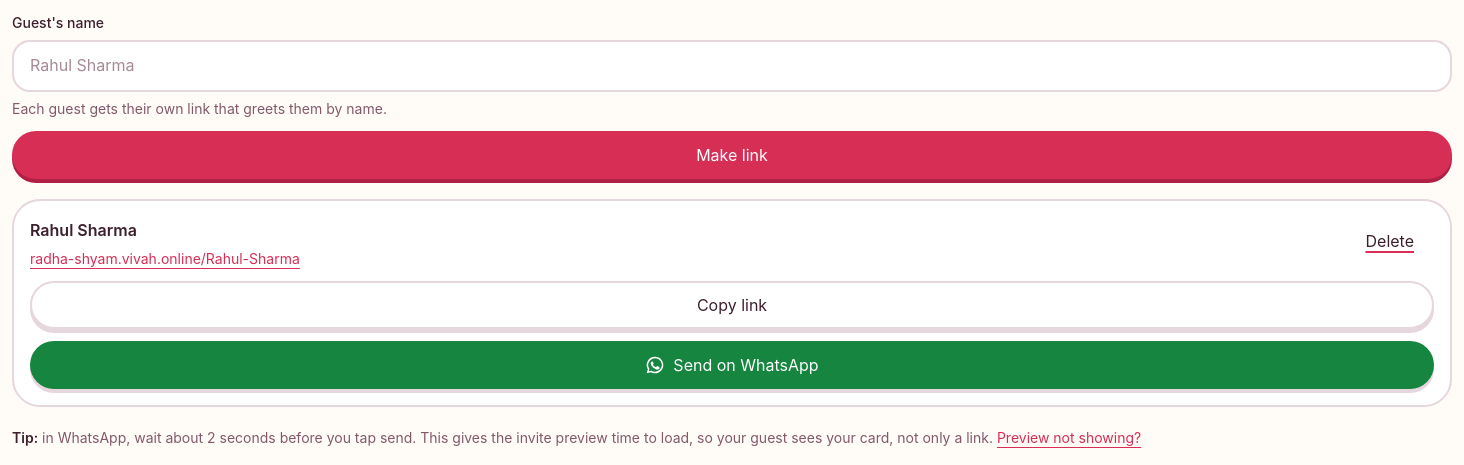
Scenario: GuestLinks › copies the link
Click the button with aria-label "Copy Rahul Sharma's link" at (732, 306), box [30,282,1434,330]
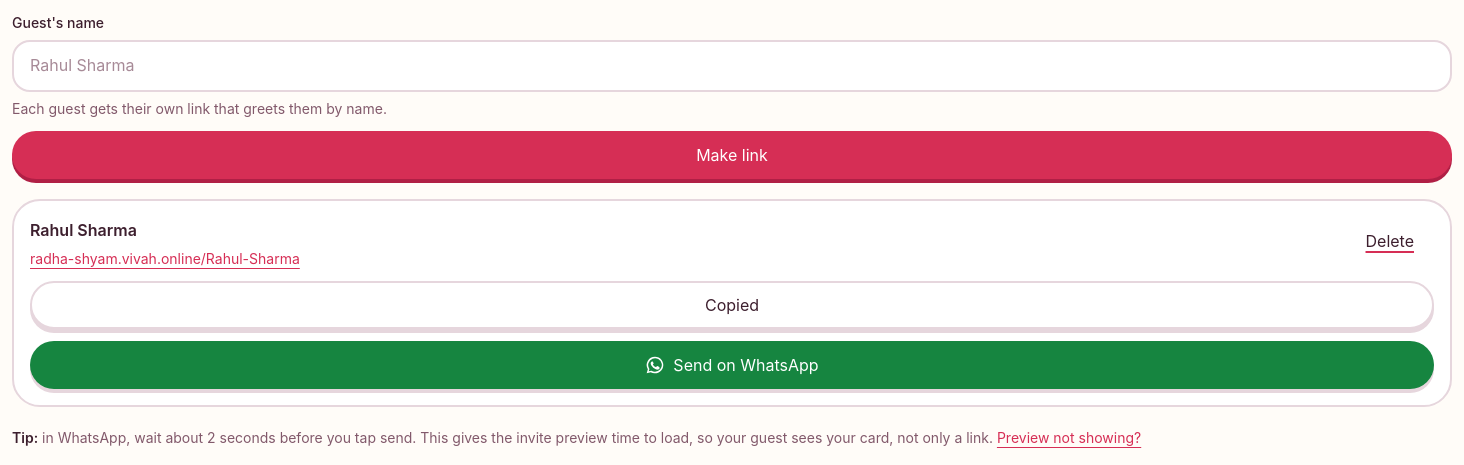
Expected: the button with aria-label "Copy Rahul Sharma's link" reads "Copied", [30,282,1434,330]
